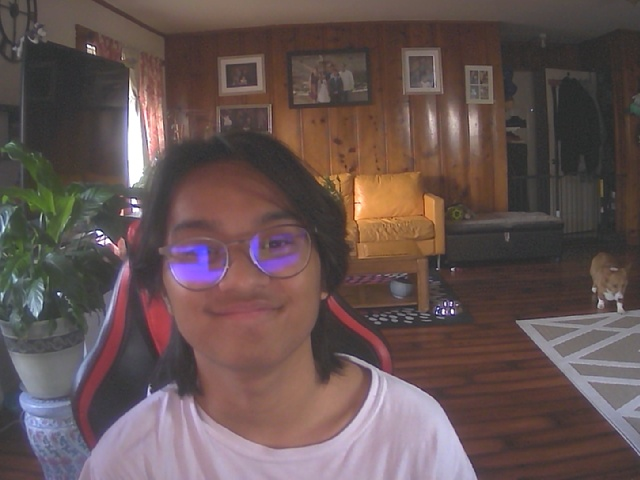happy: (149, 144, 338, 374)
